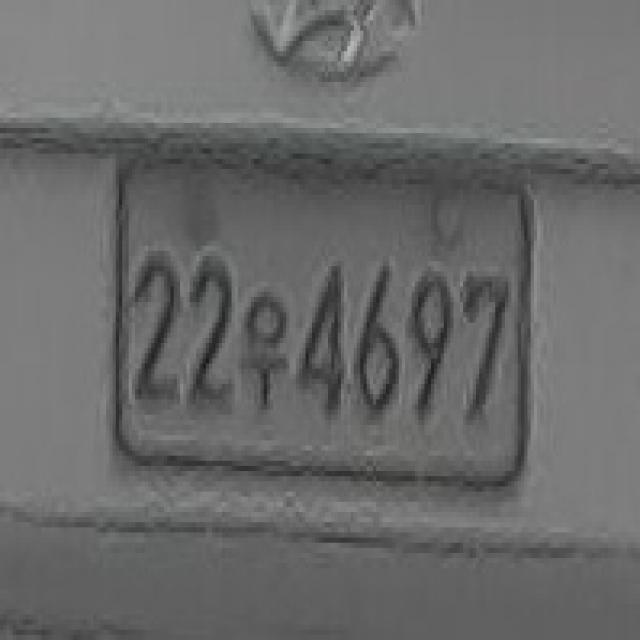2: (188, 238, 246, 415), (130, 234, 186, 416)
4: (297, 254, 353, 423)
6: (356, 244, 412, 435)
7: (459, 260, 515, 428)
9: (405, 250, 456, 430)
license_plate: (121, 172, 523, 480)
u: (247, 283, 295, 410)
